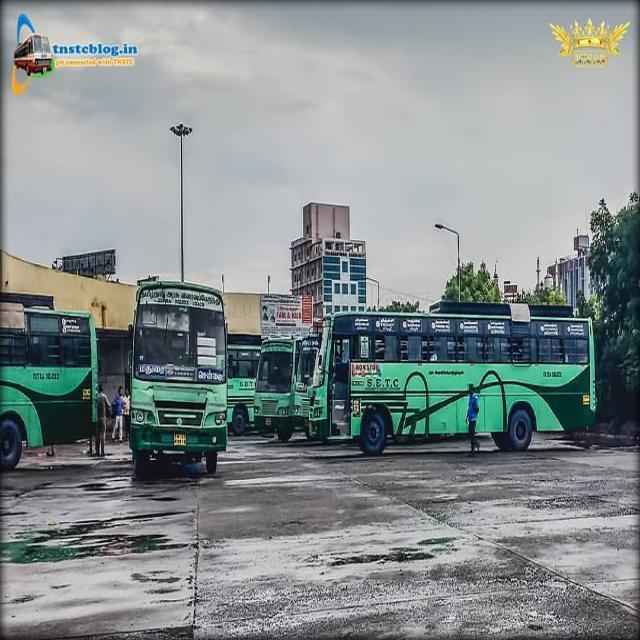Bus: (306, 303, 600, 454), (124, 274, 229, 470), (1, 286, 100, 466), (250, 335, 296, 436), (228, 342, 253, 435), (292, 333, 316, 418)
